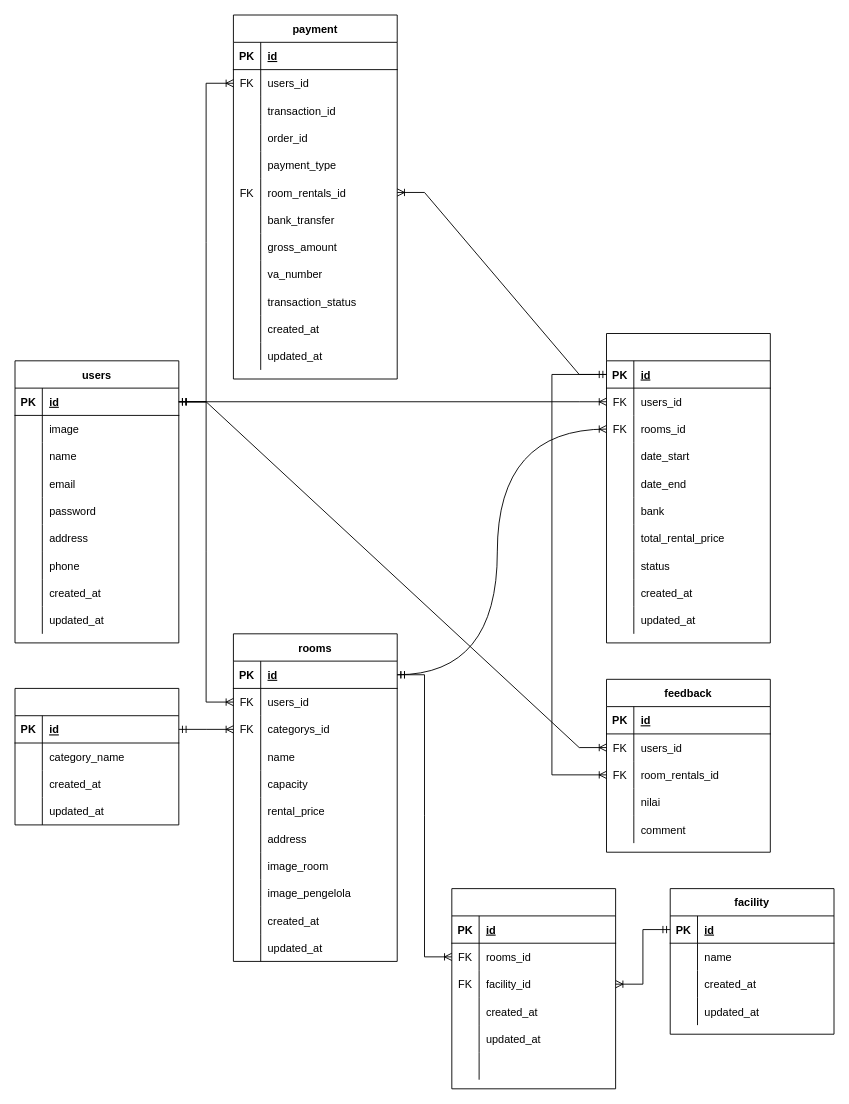
The diagram is 849 pixels wide and 1104 high, and some of its shapes have lost their labels. The box of each missing label's shape, as (x1, y1, x2, y2) in pixels:
categorys: (14, 688, 179, 825)
room_facility: (451, 888, 616, 1089)
room_rentals: (606, 333, 770, 643)
